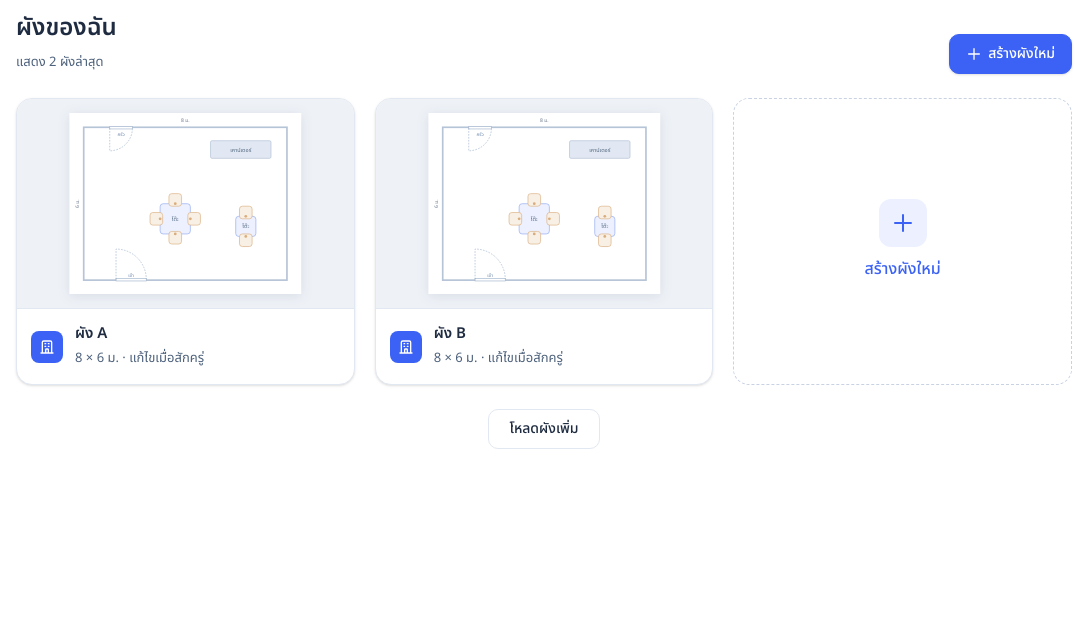
ProjectsList (feat-063) › มีหน้าถัดไป → ปุ่ม 'โหลดผังเพิ่ม' ต่อท้ายรายการ (ตัด id ซ้ำ) แล้วหายเมื่อหมด
Expected: the text "แสดง 2 ผังล่าสุด" is shown, x1=16 y1=50 x2=117 y2=74
Click the button "โหลดผังเพิ่ม". click: (544, 429)
box: x1=488 y1=409 x2=600 y2=449
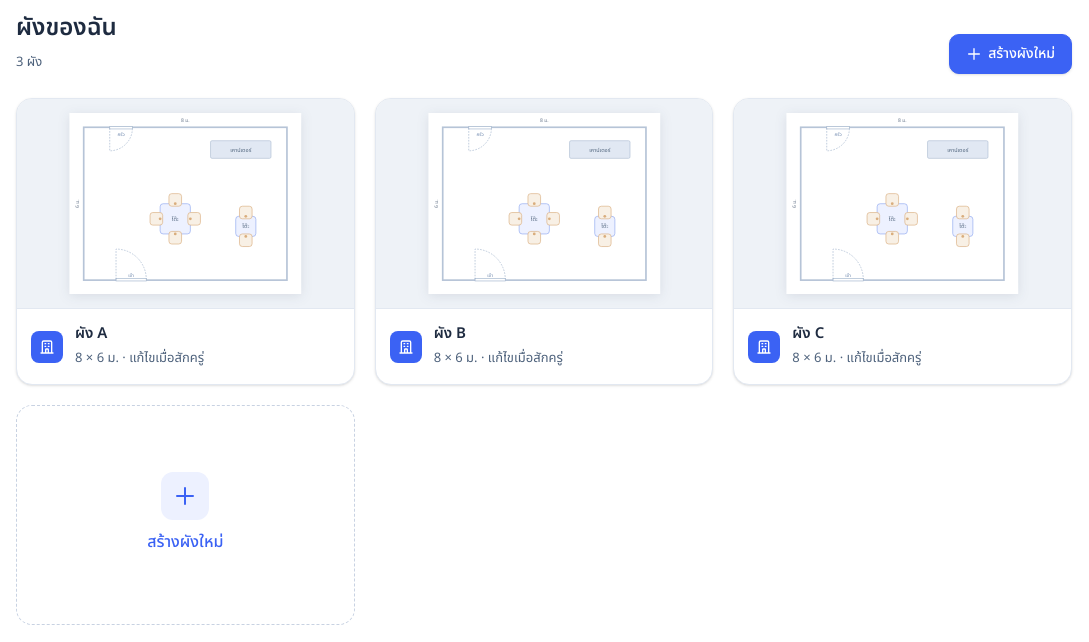
Now the heading "ผัง C" is shown, box x1=792 y1=322 x2=824 y2=345
Now the text "3 ผัง" is shown, box x1=16 y1=52 x2=42 y2=72
Now the button "โหลดผังเพิ่ม" is gone
